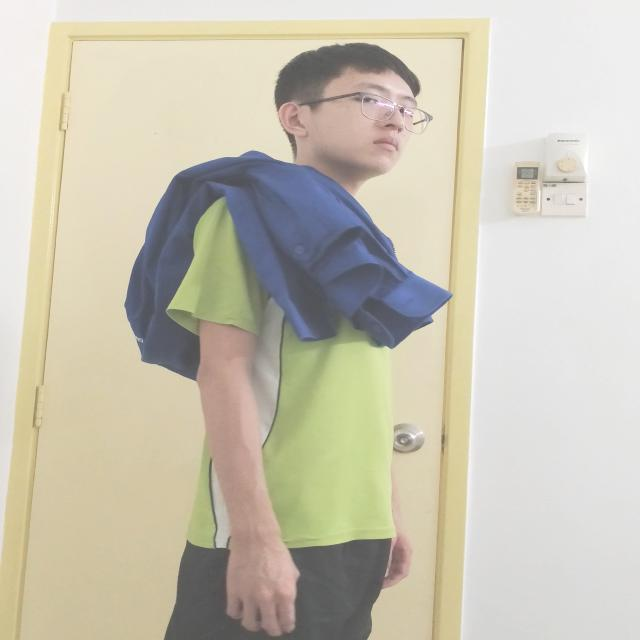person_without_labcoat: (127, 43, 450, 640)
